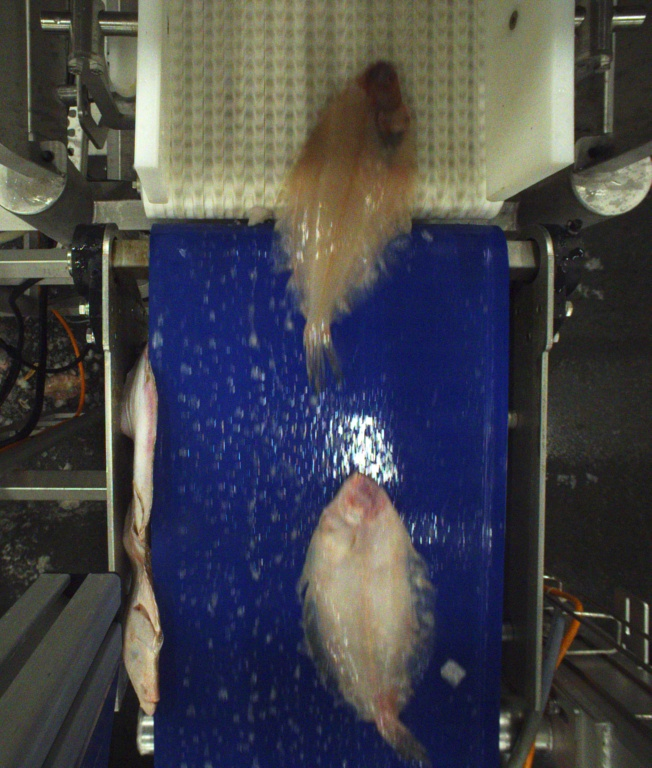WIT: (299, 470, 427, 768)
